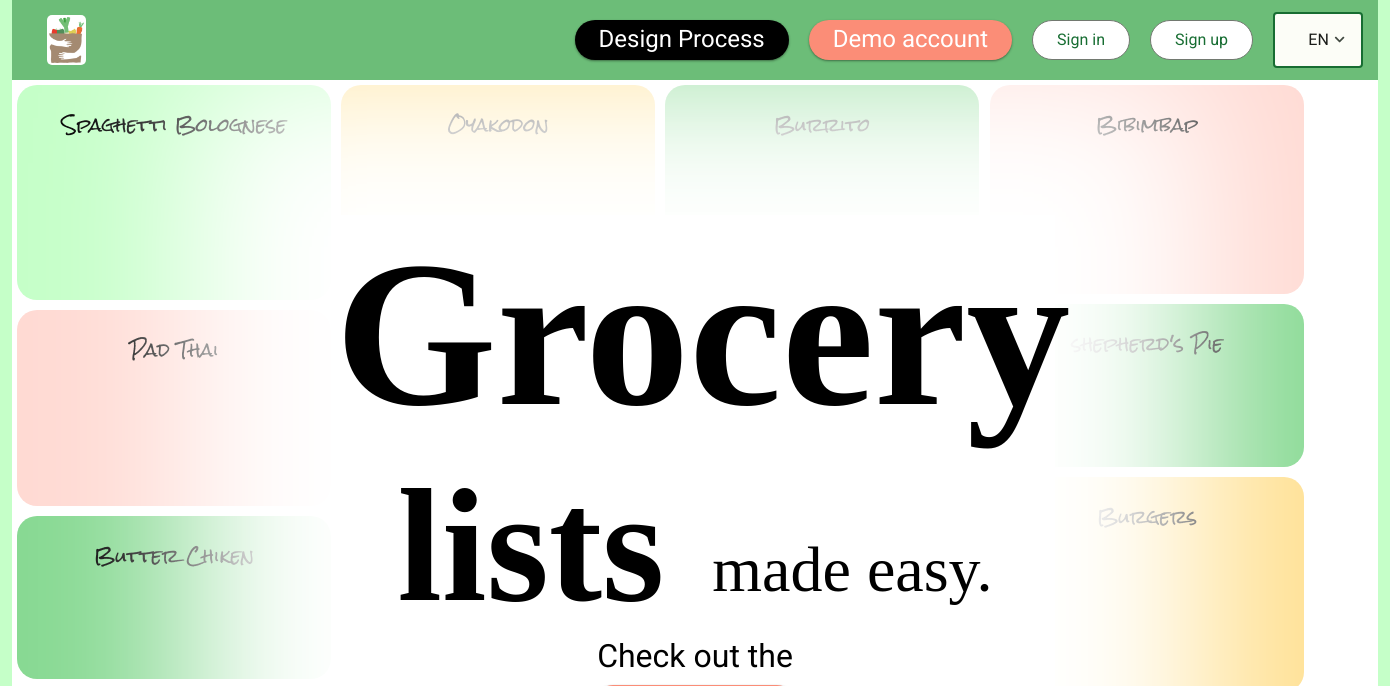
Test: updates homepage language to French when selected
This screenshot has width=1390, height=686.
Click the button "EN" at (1318, 40), box x1=1273 y1=12 x2=1363 y2=68
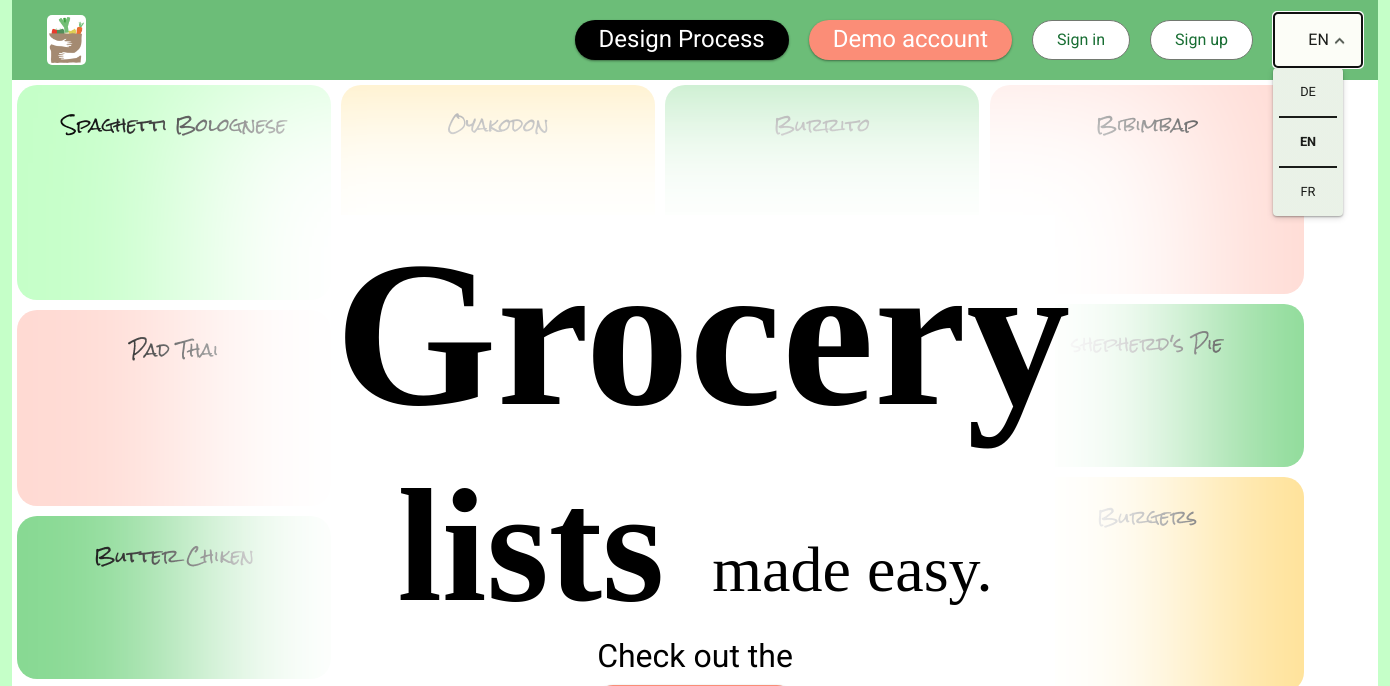
Click the text "FR" at (1308, 191), box x1=1300 y1=184 x2=1316 y2=199
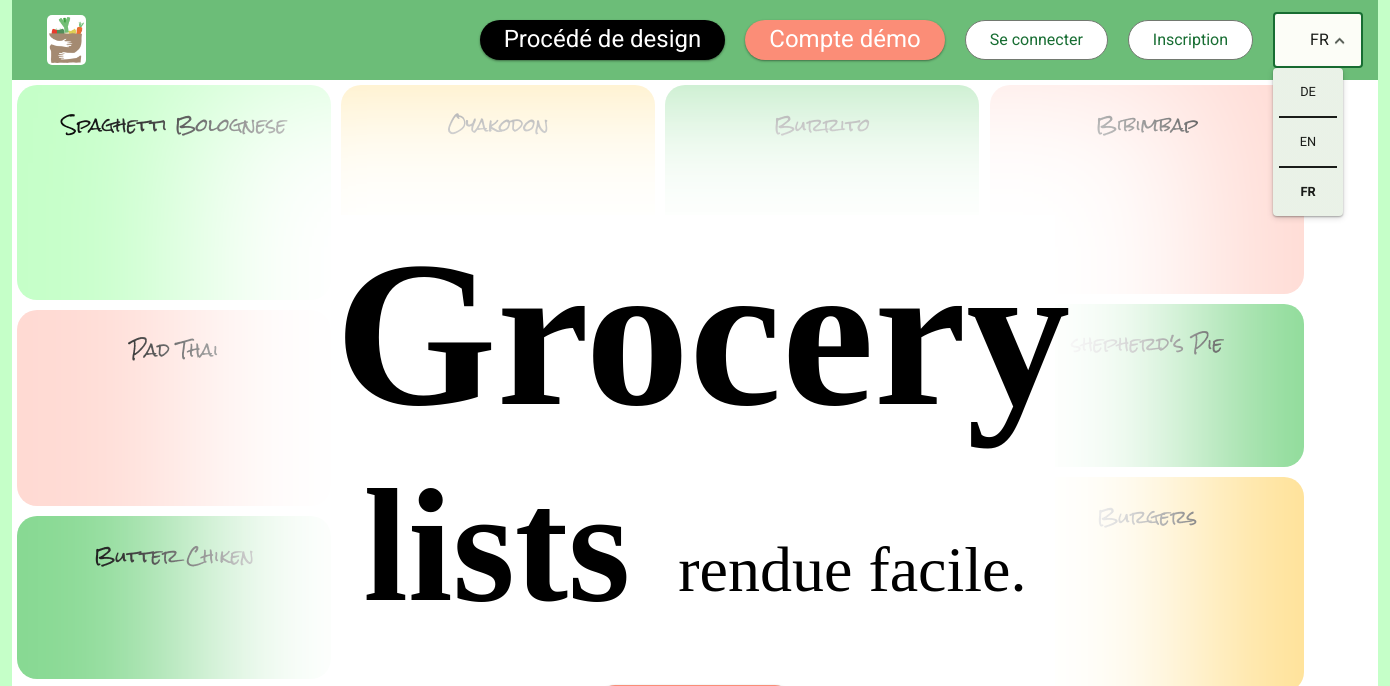
Expected: the text "rendue facile." is shown, x1=630 y1=533 x2=1026 y2=638
